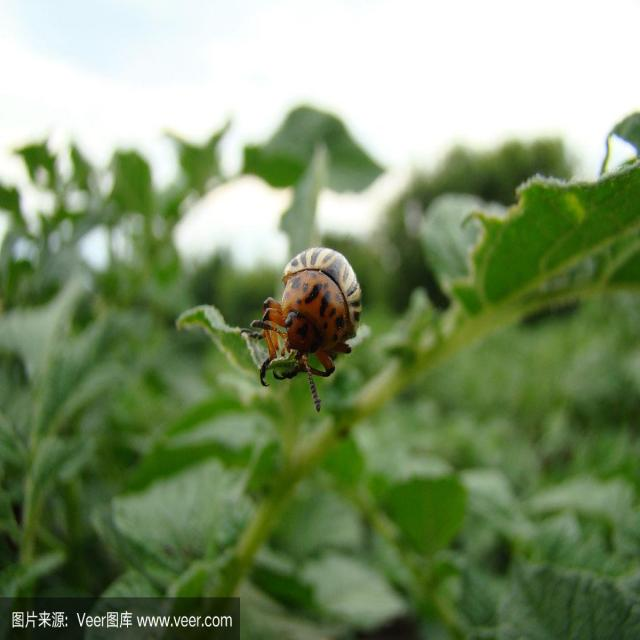ShuCaiHuaBanChong-Grown-: (257, 239, 369, 404)
